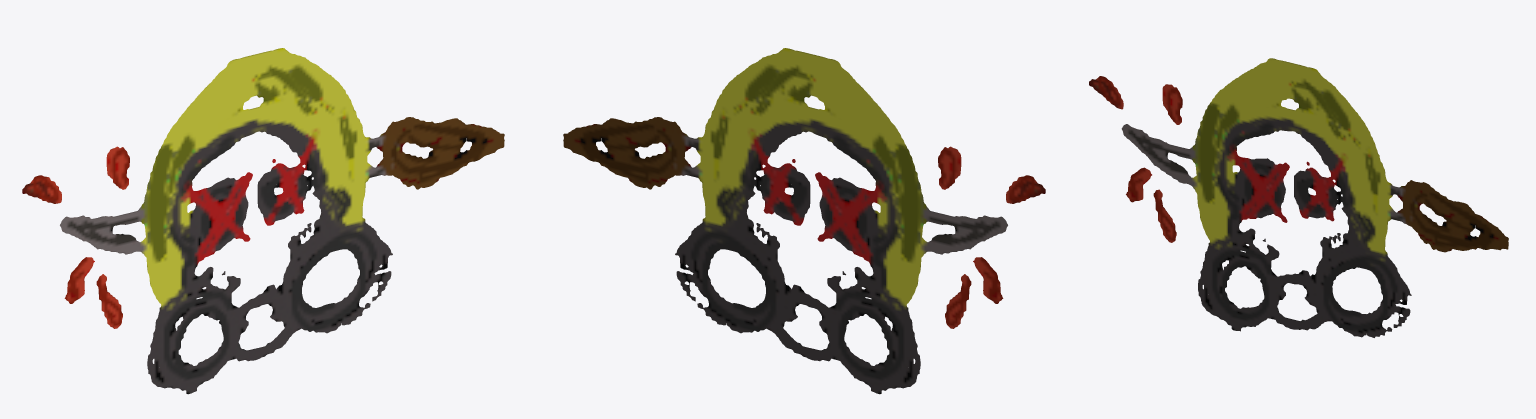
Rendered from deadman_signage.FBX.
The picture shows the model from 3 angles, left to right: view 1: azimuth 30°, elevation 25°; view 2: azimuth 150°, elevation 25°; view 3: azimuth 330°, elevation 25°; orthographic projection. The views are drawn at different scales.
Visible parts, largest first — view 1: deadman_signage; view 2: deadman_signage; view 3: deadman_signage.
Part boxes in pixels (x1,y1,x2,y2): deadman_signage: (22, 48, 504, 394); deadman_signage: (563, 48, 1045, 394); deadman_signage: (1089, 58, 1508, 337).
Size of the model in its own units: 60.27 by 40.7 by 1.21e-05.
